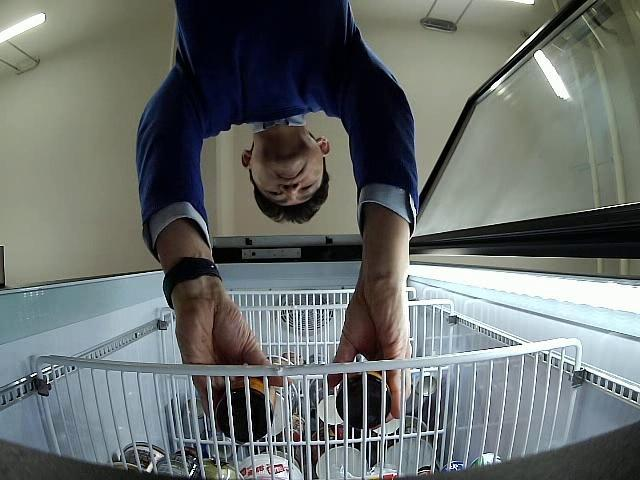17_vita500: (210, 377, 276, 440), (337, 371, 392, 429)
